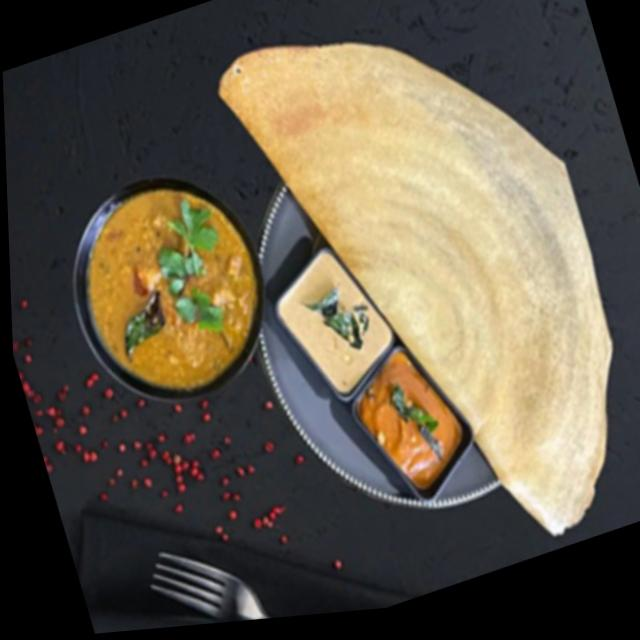DOSA: (217, 47, 610, 531)
RED CHUTNEY: (356, 352, 460, 493)
SAMBAR: (84, 188, 267, 384)
WHITE CHUTNEY: (277, 254, 390, 392)
